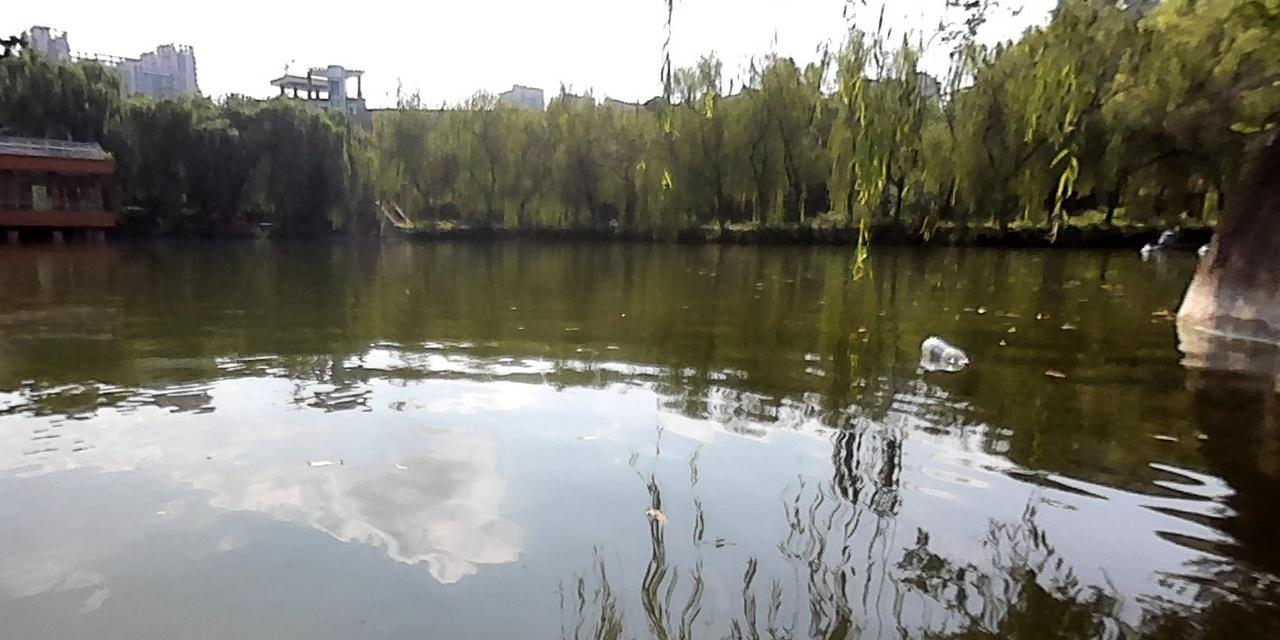bottle: (919, 331, 967, 369)
